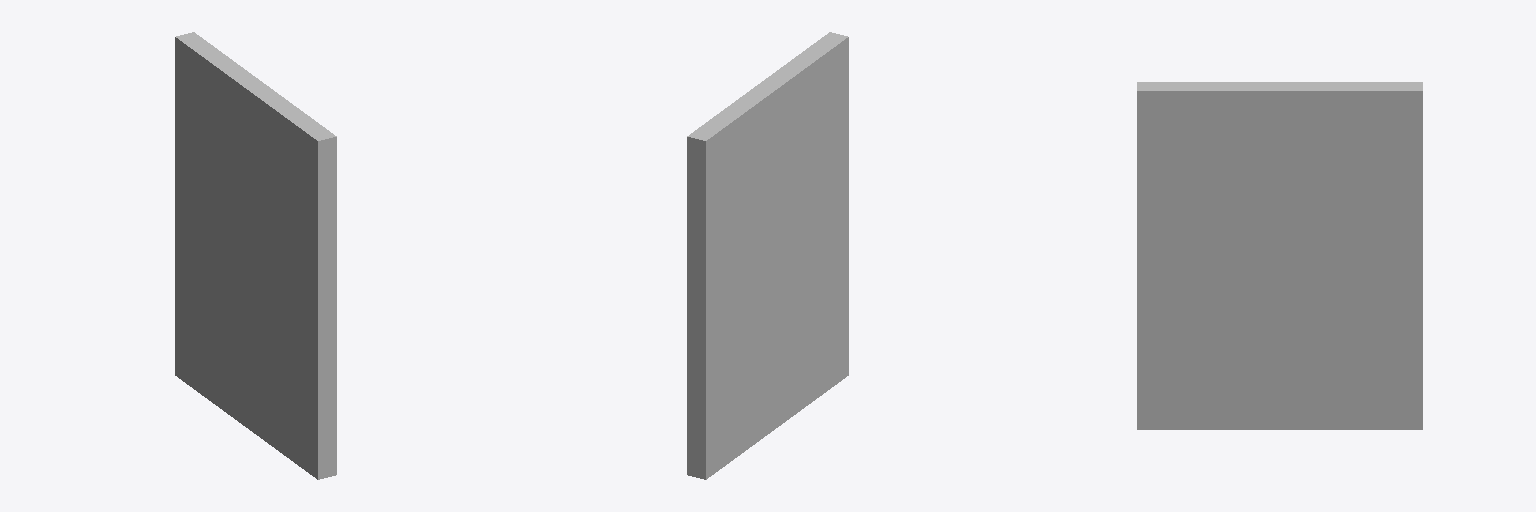
Rendered from Note.obj.
3 renders of one model, left to right at view 1: azimuth 30°, elevation 25°; view 2: azimuth 150°, elevation 25°; view 3: azimuth 270°, elevation 25°, orthographic.
Visible parts, largest first — view 1: ObjObject; view 2: ObjObject; view 3: ObjObject.
Part boxes in pixels (x1,y1,x2,y2): ObjObject: (175,32,336,479); ObjObject: (687,32,848,479); ObjObject: (1137,82,1422,429).
Bounding box in the file's own units: 0.1 × 1.7 × 1.3.